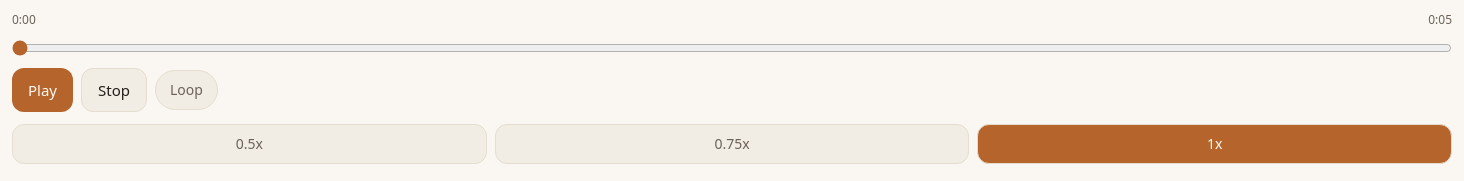
Scenario: AudioSegmentPlayer › toggles between Play and Pause labels
The image size is (1464, 181).
Click the button with aria-label "Play section": coordinates (42, 90) [12, 68, 73, 112]
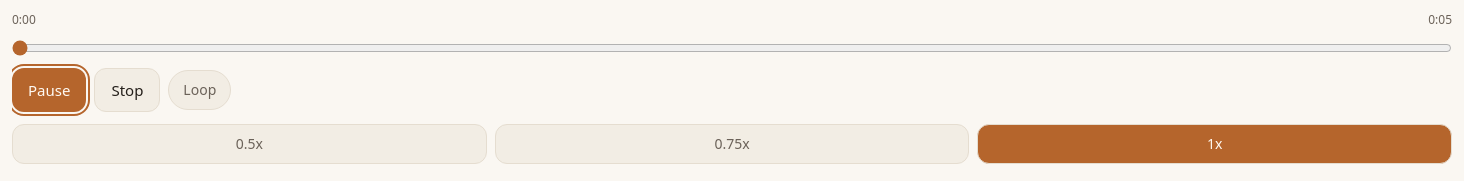
Check: the button with aria-label "Pause section" is shown, box [12, 68, 86, 112]
